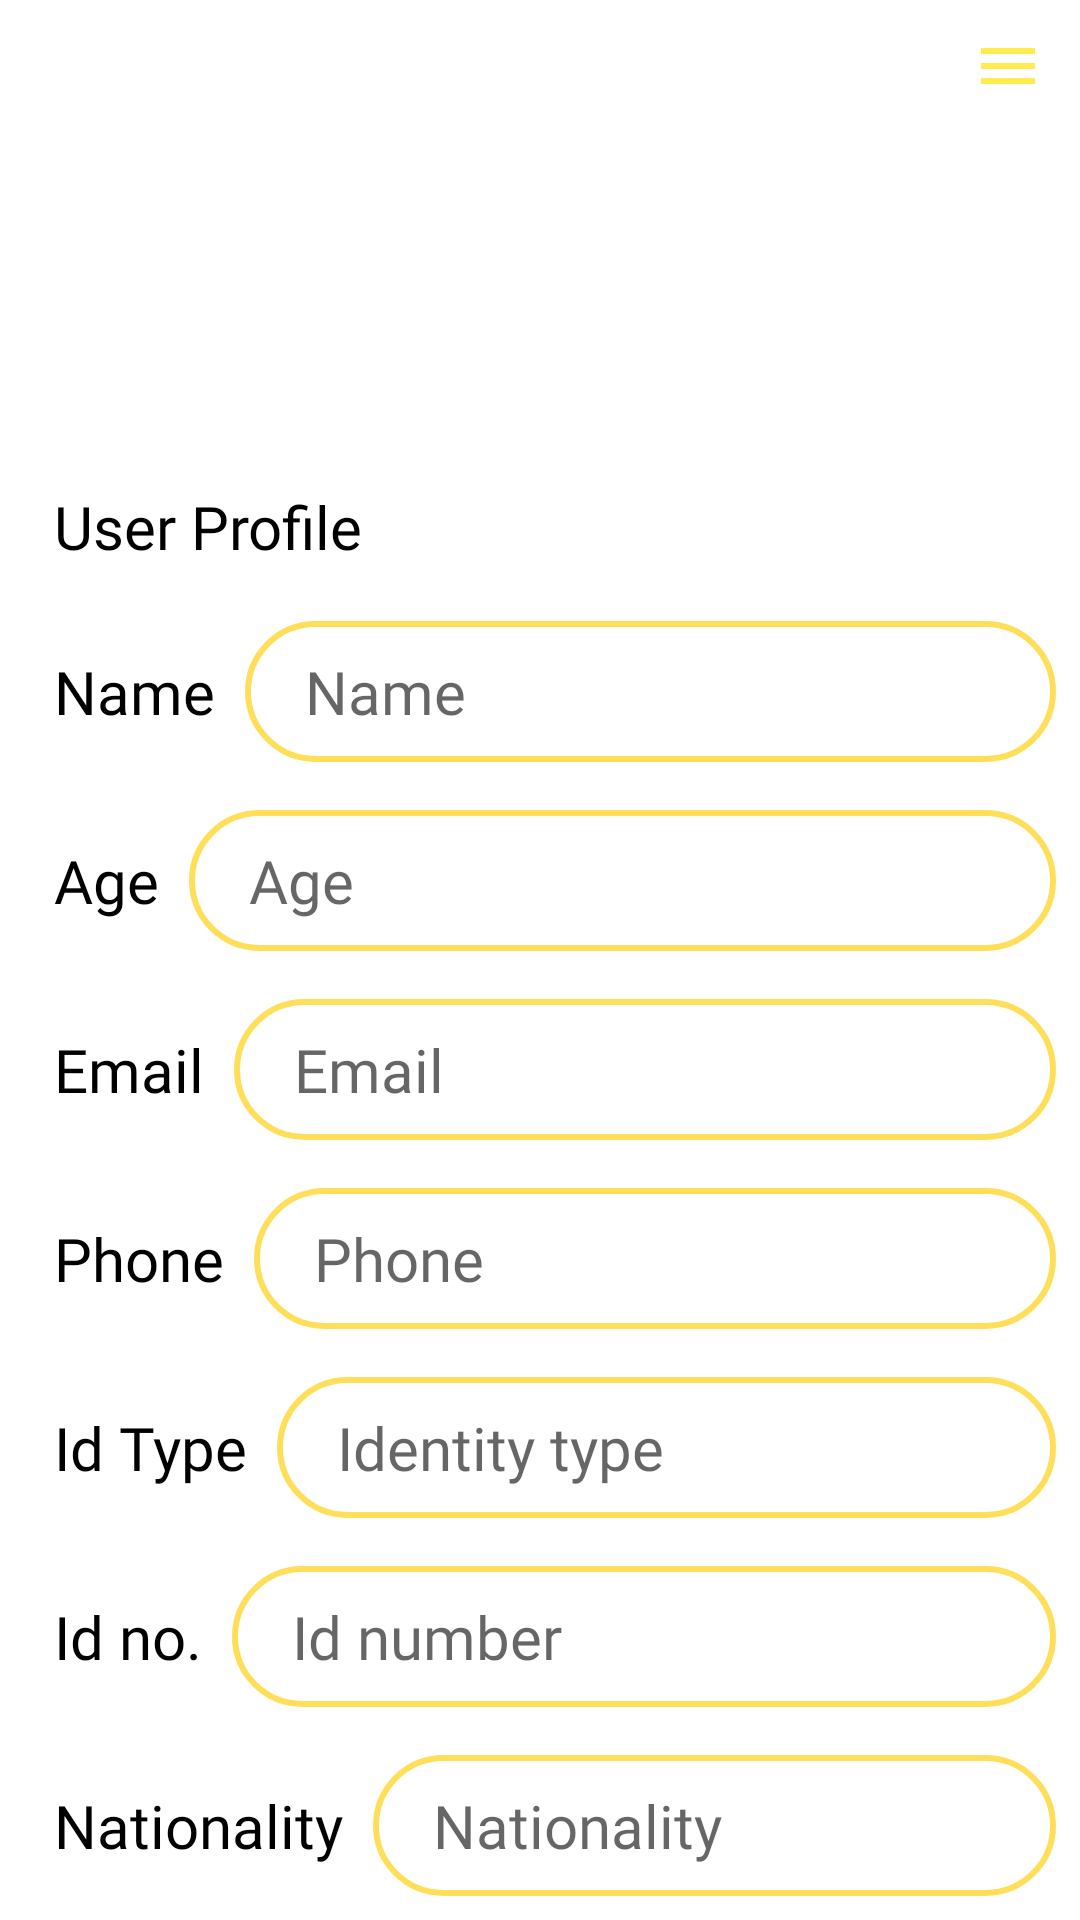

Named icons in this screenshot (1080 x 1920) and their centers, (x=x, y=y):
hamburger: (x=1008, y=66)
